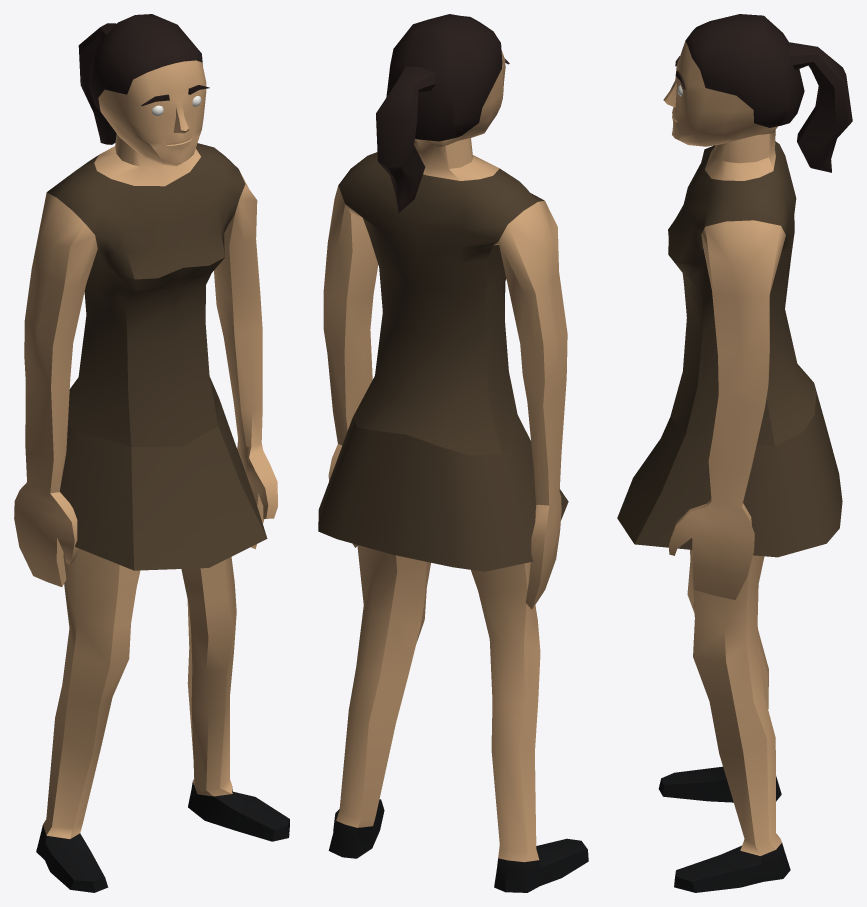
File: female_dress.glb
The picture shows the model from 3 angles, left to right: view 1: azimuth 30°, elevation 25°; view 2: azimuth 150°, elevation 25°; view 3: azimuth 270°, elevation 25°; orthographic projection. The views are drawn at different scales.
Parts seen in each view (by area): view 1: FemaleDress; view 2: FemaleDress; view 3: FemaleDress.
Part boxes in pixels (x1,y1,x2,y2): FemaleDress: (14, 14, 289, 892); FemaleDress: (318, 14, 588, 892); FemaleDress: (617, 14, 852, 892).
Bounding box in the file's own units: 0.5409 × 1.8 × 0.4711.
